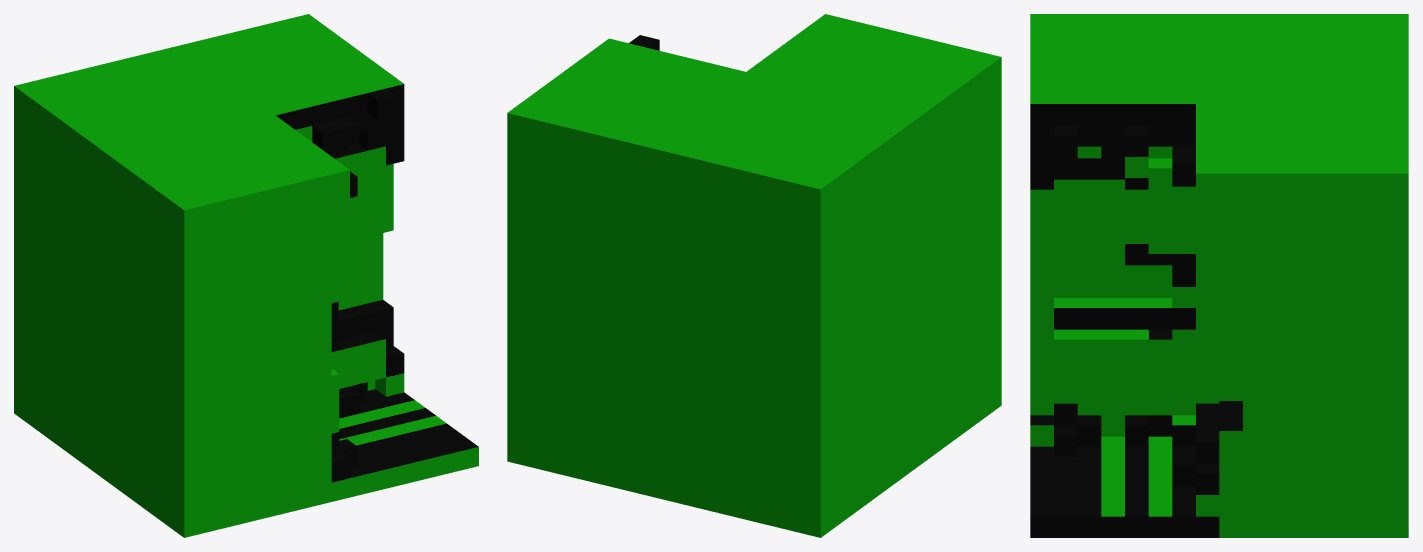
Rendered from Corner8.fbx.
The picture shows the model from 3 angles, left to right: view 1: azimuth 30°, elevation 25°; view 2: azimuth 150°, elevation 25°; view 3: azimuth 270°, elevation 25°; orthographic projection. The views are drawn at different scales.
Visible parts, largest first — view 1: Cliff, Ground; view 2: Cliff, Ground; view 3: Cliff, Ground.
Part boxes in pixels (x1=…): Cliff: x1=14, y1=105, x2=393, y2=537; Ground: x1=14, y1=14, x2=478, y2=501; Cliff: x1=507, y1=78, x2=1001, y2=537; Ground: x1=507, y1=14, x2=1001, y2=209; Cliff: x1=1030, y1=146, x2=1408, y2=537; Ground: x1=1030, y1=14, x2=1408, y2=537.
Size of the model in its own units: 16 by 17 by 16.
